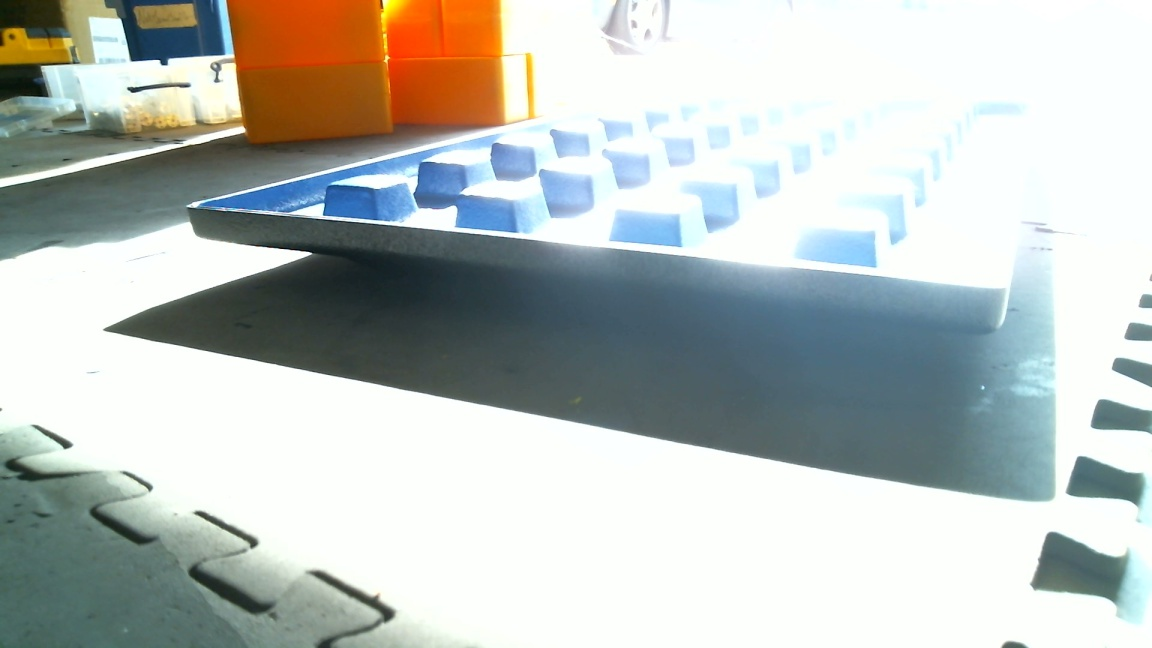blue_foundation: (177, 86, 1045, 336)
